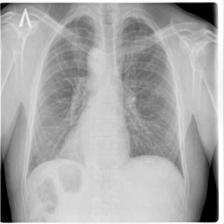tuberculosis: (23, 8, 190, 183)
